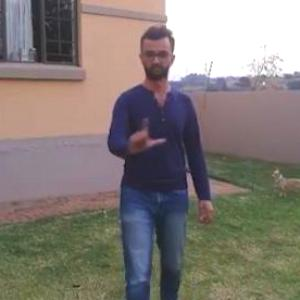land_hand: (122, 110, 168, 155)
